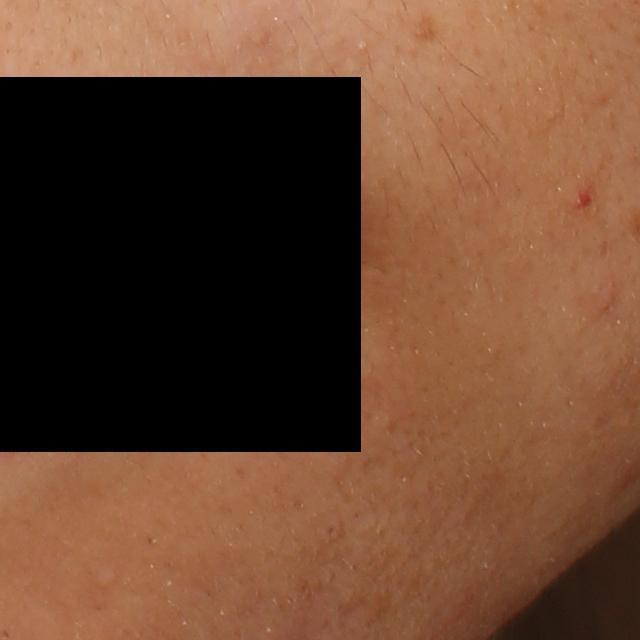comedo: (89, 568, 119, 588)
papule: (570, 185, 598, 212)
